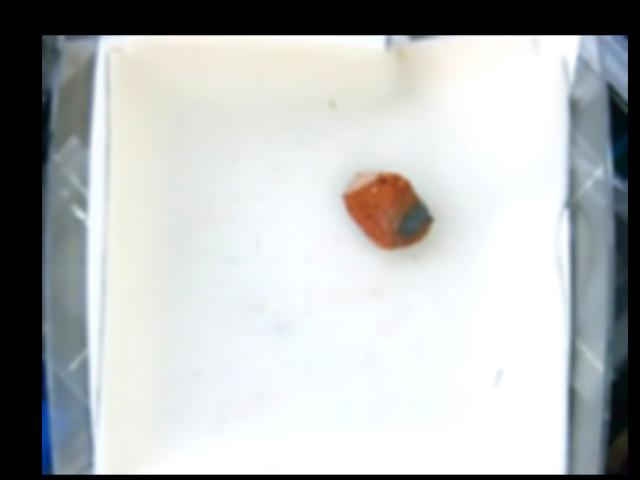Brisk: (345, 172, 433, 251)
